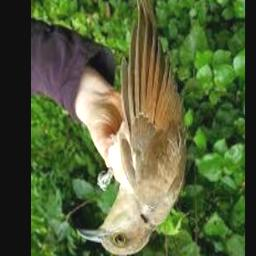Cuckoo: (77, 0, 187, 256)
